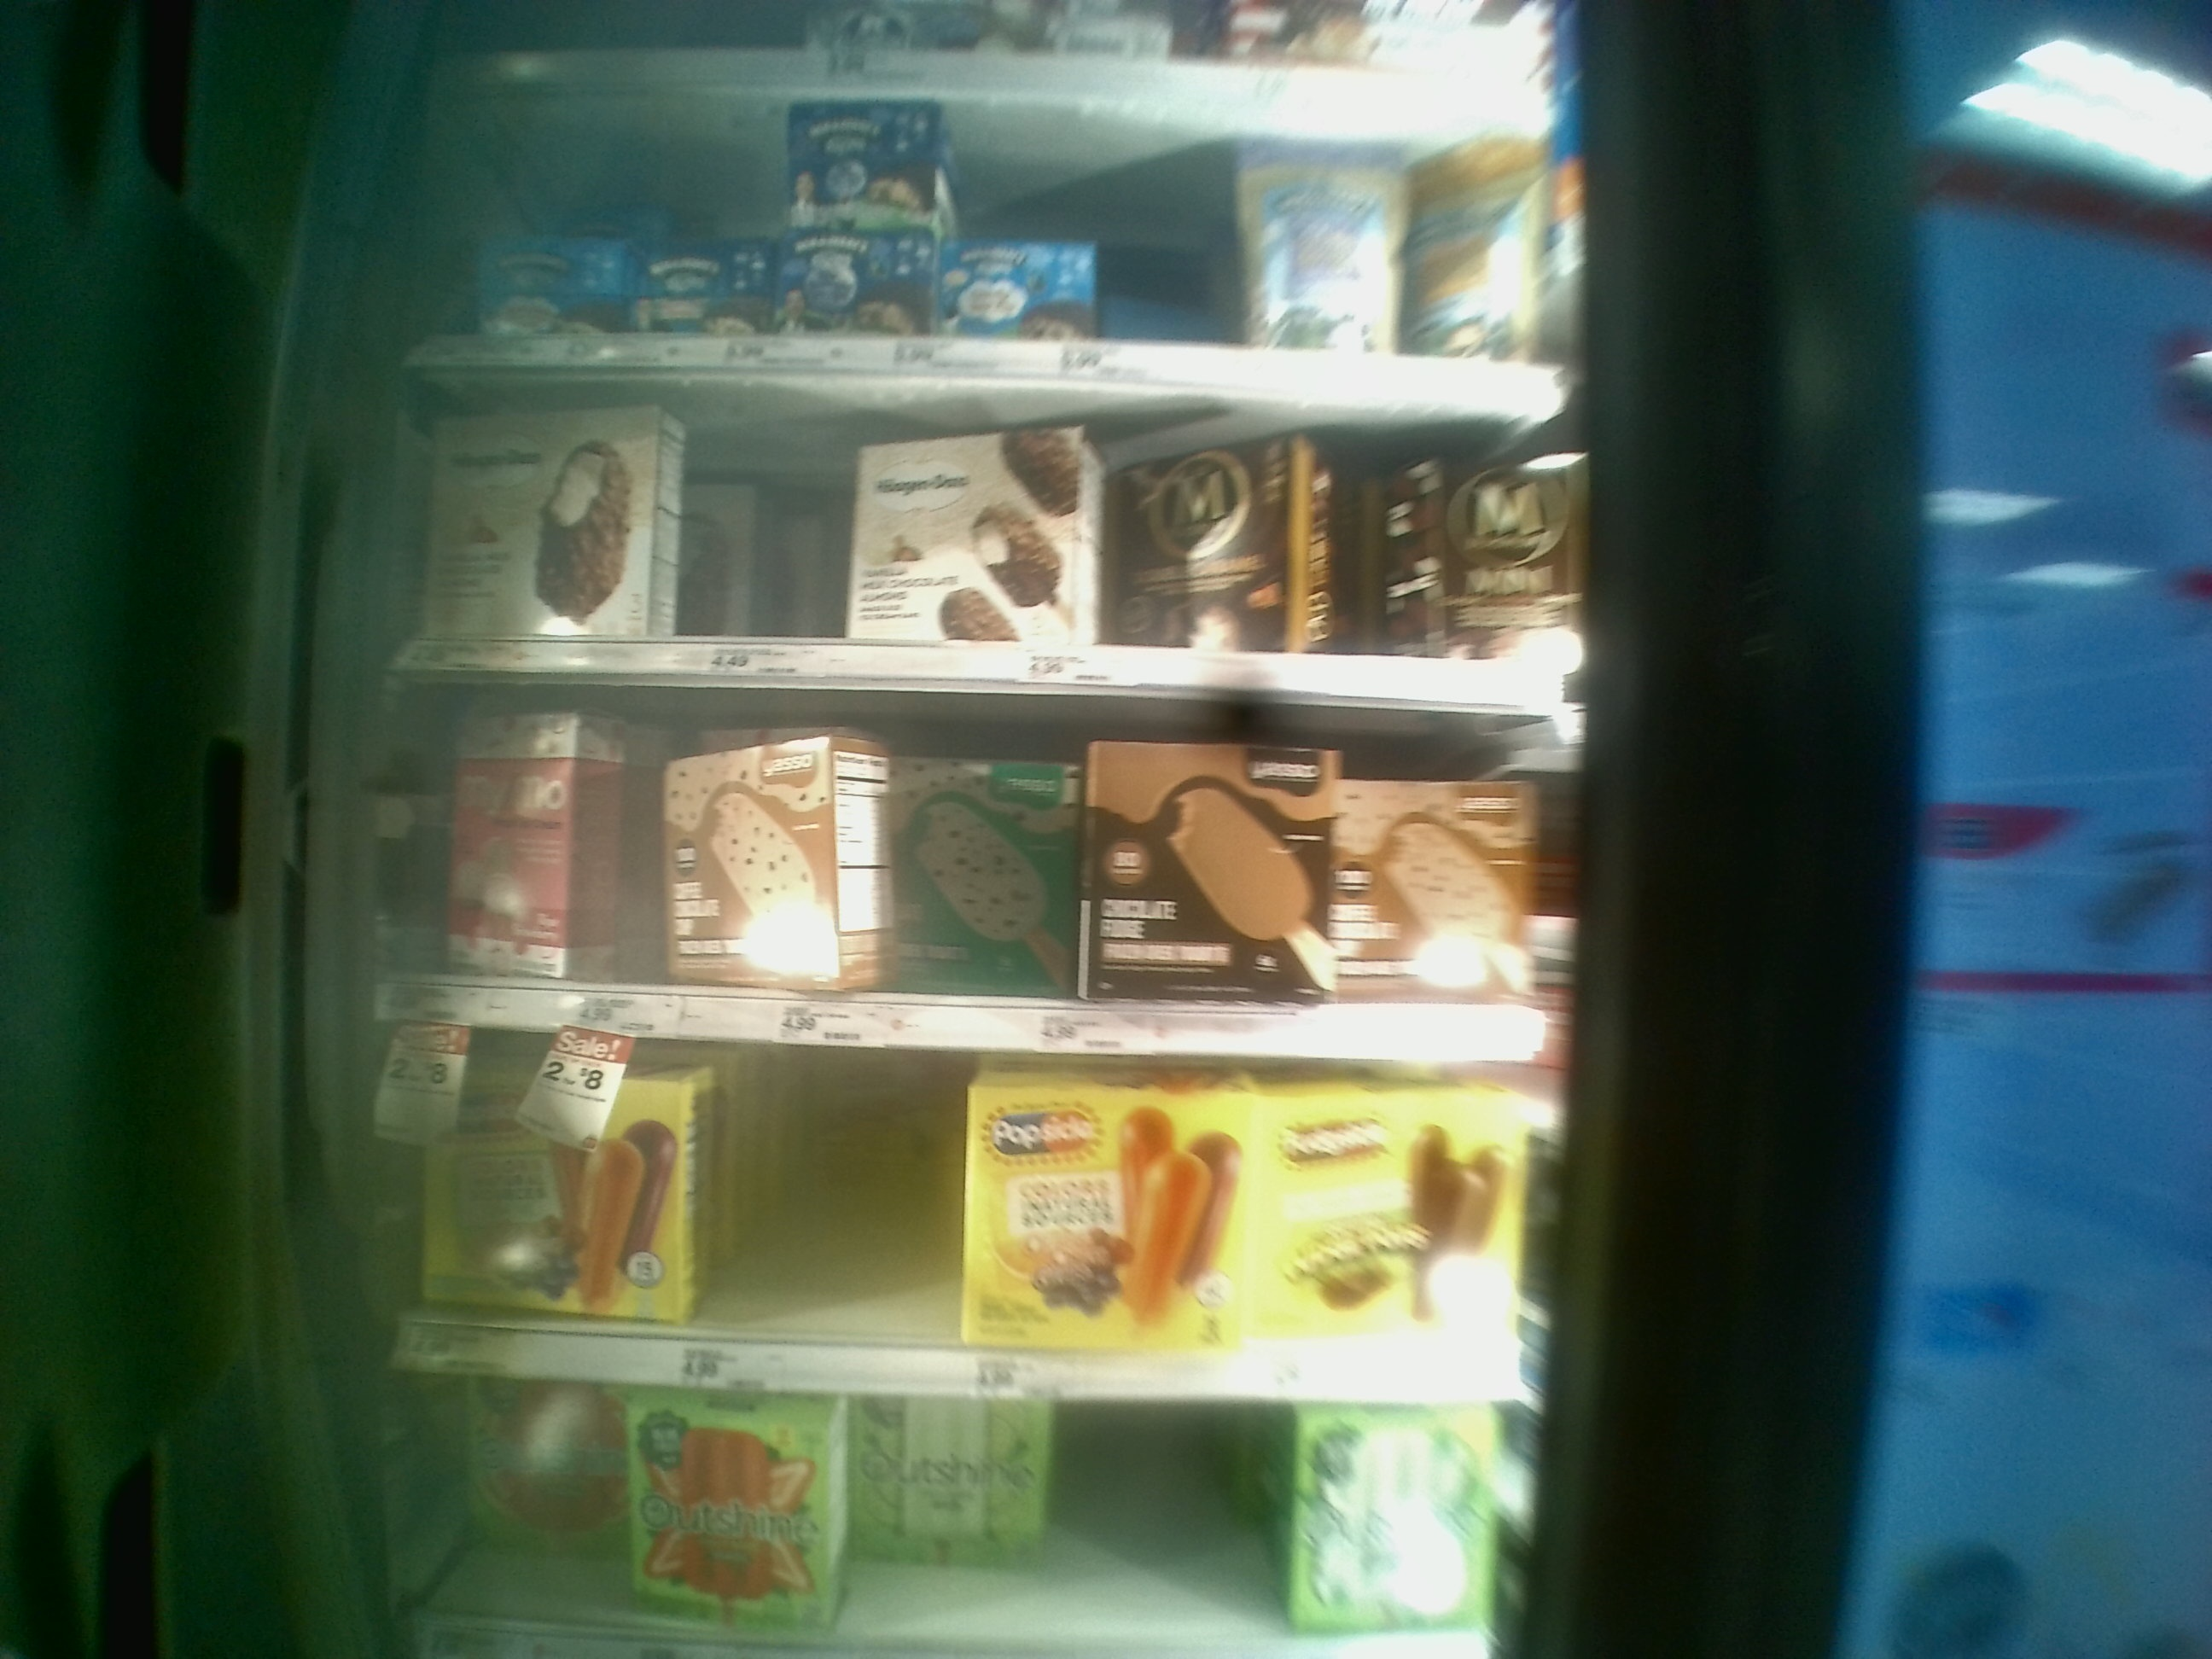shelf: (371, 673, 1575, 1068), (380, 396, 1575, 704)
